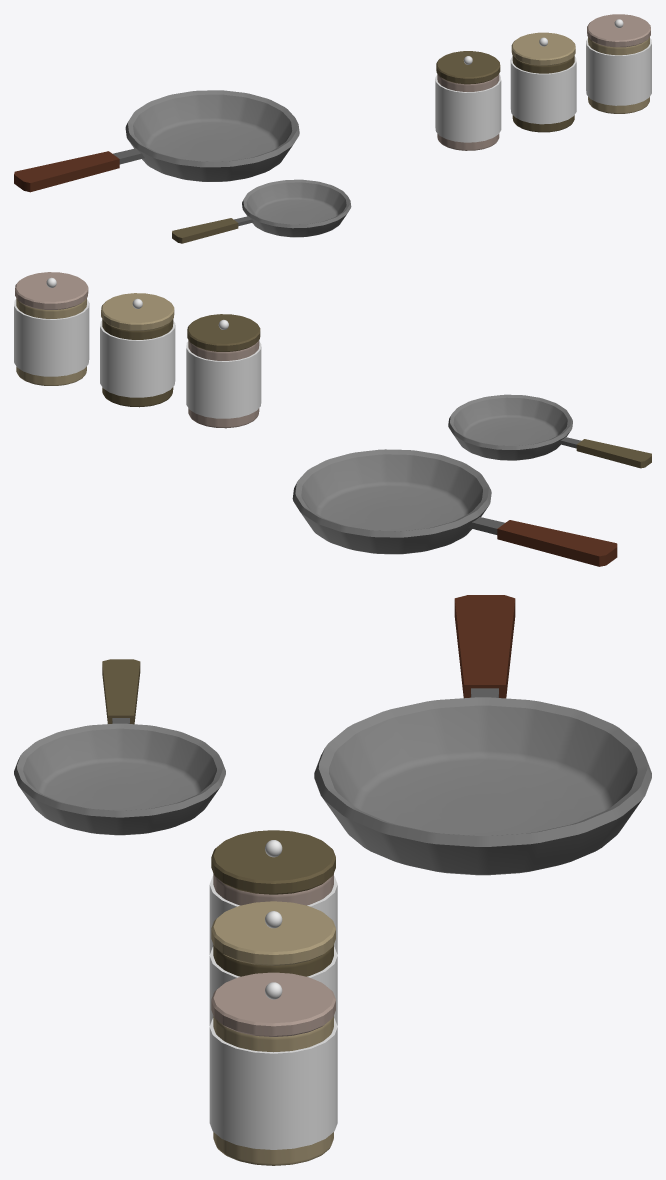
File: colored kitchen stuff.fbx
3 renders of one model, top to bottom at view 1: azimuth 30°, elevation 25°; view 2: azimuth 150°, elevation 25°; view 3: azimuth 270°, elevation 25°, orthographic. The views are drawn at different scales.
Parts seen in each view (by area): view 1: polySurface15, polySurface18, polySurface11, polySurface7, polySurface3, polySurface13, polySurface5, polySurface9, polySurface1, polySurface10, polySurface6, polySurface2 (+1 smaller); view 2: polySurface15, polySurface18, polySurface3, polySurface7, polySurface11, polySurface13, polySurface1, polySurface5, polySurface9, polySurface6, polySurface10, polySurface2 (+1 smaller); view 3: polySurface15, polySurface18, polySurface3, polySurface1, polySurface5, polySurface9, polySurface13, polySurface2, polySurface16, polySurface6, polySurface10, polySurface7 (+1 smaller).
Boxes of the visible parts, <box> form: polySurface15: <box>125,90,299,181</box>; polySurface18: <box>242,179,351,237</box>; polySurface11: <box>510,56,576,124</box>; polySurface7: <box>435,75,501,142</box>; polySurface3: <box>586,38,651,105</box>; polySurface13: <box>14,151,119,192</box>; polySurface5: <box>436,51,500,84</box>; polySurface9: <box>511,32,575,65</box>; polySurface1: <box>587,14,650,47</box>; polySurface10: <box>512,55,574,132</box>; polySurface6: <box>437,74,499,150</box>; polySurface2: <box>588,37,649,113</box>; polySurface15: <box>292,449,491,554</box>; polySurface18: <box>448,394,572,460</box>; polySurface3: <box>14,299,89,376</box>; polySurface7: <box>186,341,261,418</box>; polySurface11: <box>100,320,175,397</box>; polySurface13: <box>497,520,617,566</box>; polySurface1: <box>15,272,88,309</box>; polySurface5: <box>187,314,260,351</box>; polySurface9: <box>101,293,174,330</box>; polySurface6: <box>188,340,259,428</box>; polySurface10: <box>102,319,173,407</box>; polySurface2: <box>16,298,86,385</box>; polySurface15: <box>314,697,651,875</box>; polySurface18: <box>14,723,225,835</box>; polySurface3: <box>209,1018,337,1149</box>; polySurface1: <box>211,972,335,1036</box>; polySurface5: <box>211,830,335,894</box>; polySurface9: <box>211,901,335,965</box>; polySurface13: <box>454,595,515,698</box>; polySurface2: <box>213,1016,333,1165</box>; polySurface16: <box>102,659,140,724</box>; polySurface6: <box>213,873,333,905</box>; polySurface10: <box>213,945,333,976</box>; polySurface7: <box>209,876,337,954</box>.
Size of the model in its own units: 0.87 by 0.1262 by 0.4329.
